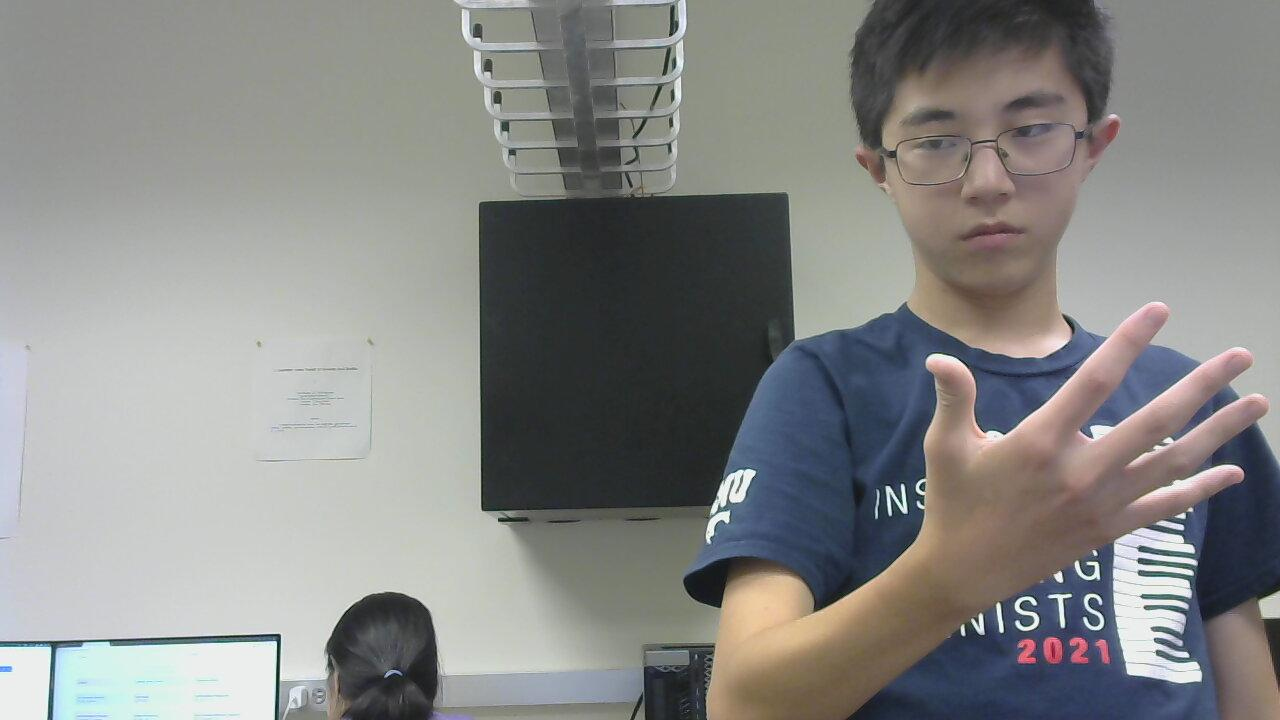hands: (911, 297, 1275, 649)
